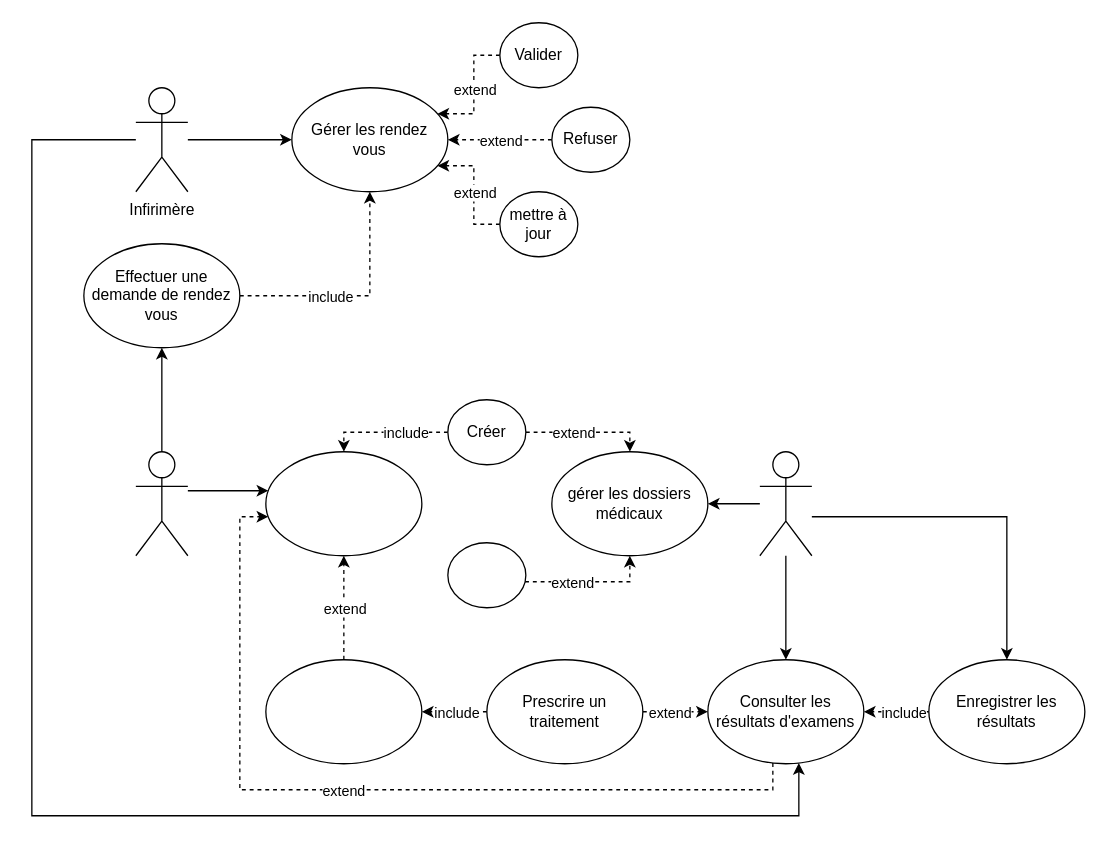
This 1108x849 diagram has some shape labels left out. The centre of each missing label's shape, as x and y in pixels:
Consulter le dossier médical: pixel 343 503
Consulter les prescriptions faites pas le médecin: pixel 343 711
Modifier: pixel 486 574
Médecin: pixel 785 503
Patient: pixel 161 503
